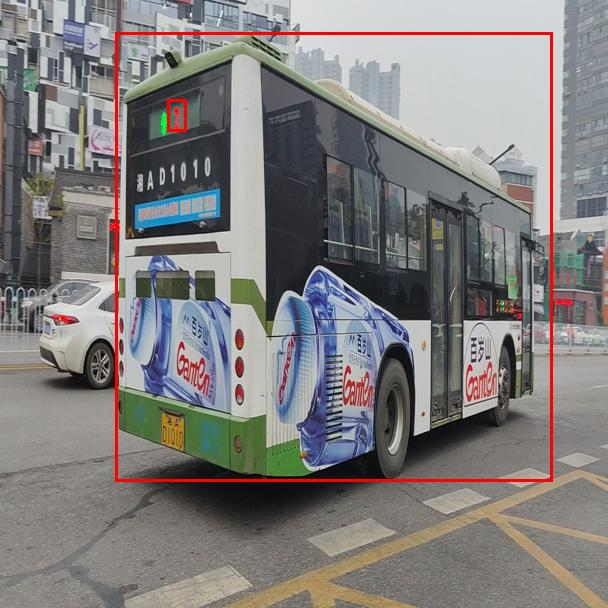bus: (115, 32, 552, 481)
screen: (167, 99, 186, 131)
